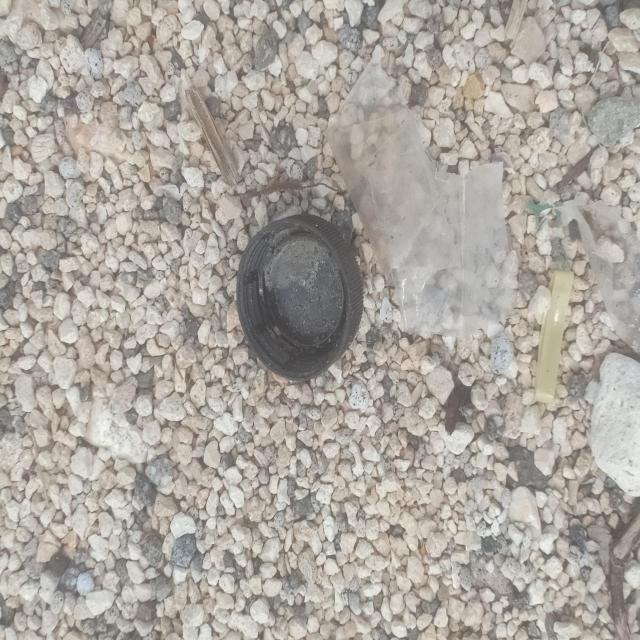plastic_waste: (239, 212, 367, 386)
